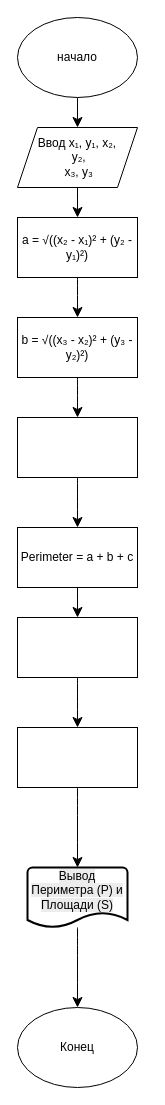
The diagram is 165 pixels wide and 1105 high, and some of its shapes have lost their labels. The centre of each missing label's shape, as x and y in pixels:
"c = √((x₁ - x₃)² + (y₁ - y₃)²)" goes at (x=77, y=447).
"p = Perimeter / 2" goes at (x=77, y=647).
"S = √(p(p-a)(p-b)(p-c))" goes at (x=77, y=757).
